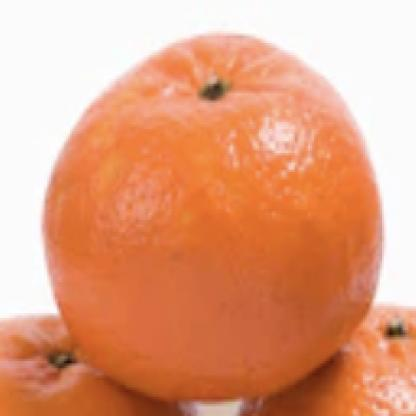fresh: (44, 31, 384, 402)
